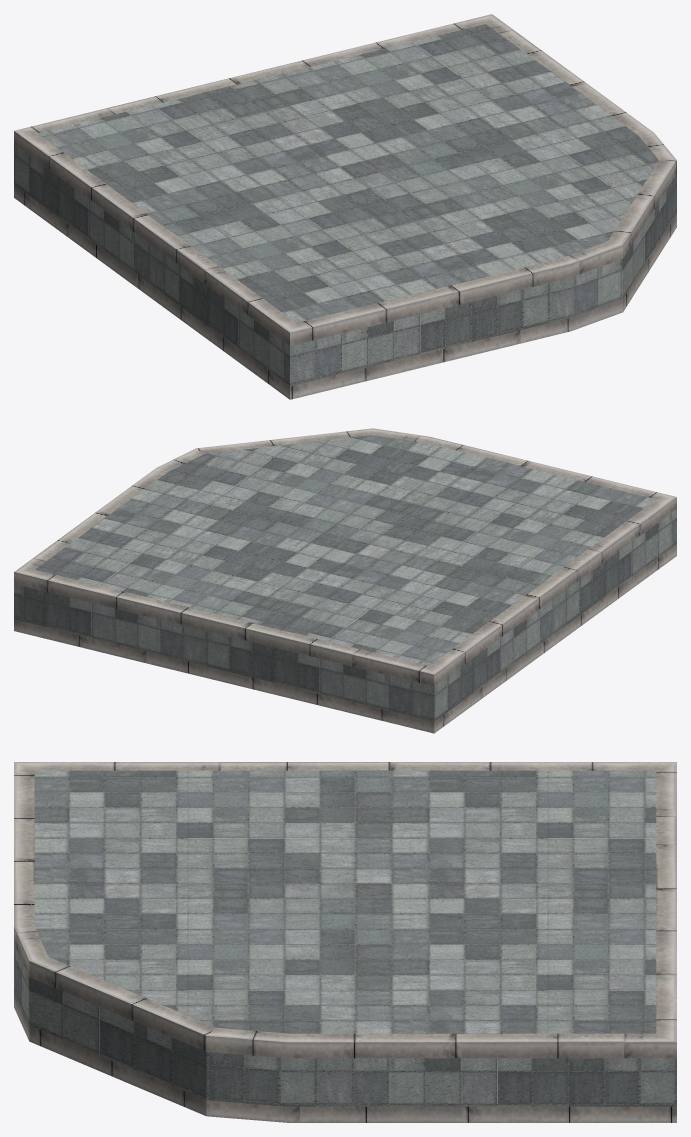
The model's file is Building_site_b_3.fbx.
3 views of the same model, one above another, from view 1: azimuth 30°, elevation 25°; view 2: azimuth 150°, elevation 25°; view 3: azimuth 270°, elevation 25° (orthographic). The views are drawn at different scales.
Parts seen in each view (by area): view 1: Building_site_b_3; view 2: Building_site_b_3; view 3: Building_site_b_3.
Boxes of the visible parts, x1,y1,x2,y2 form: Building_site_b_3: (14,14,676,399); Building_site_b_3: (14,428,676,733); Building_site_b_3: (14,762,676,1122).
Size of the model in its own units: 0.0485 by 0.0065 by 0.0485.
